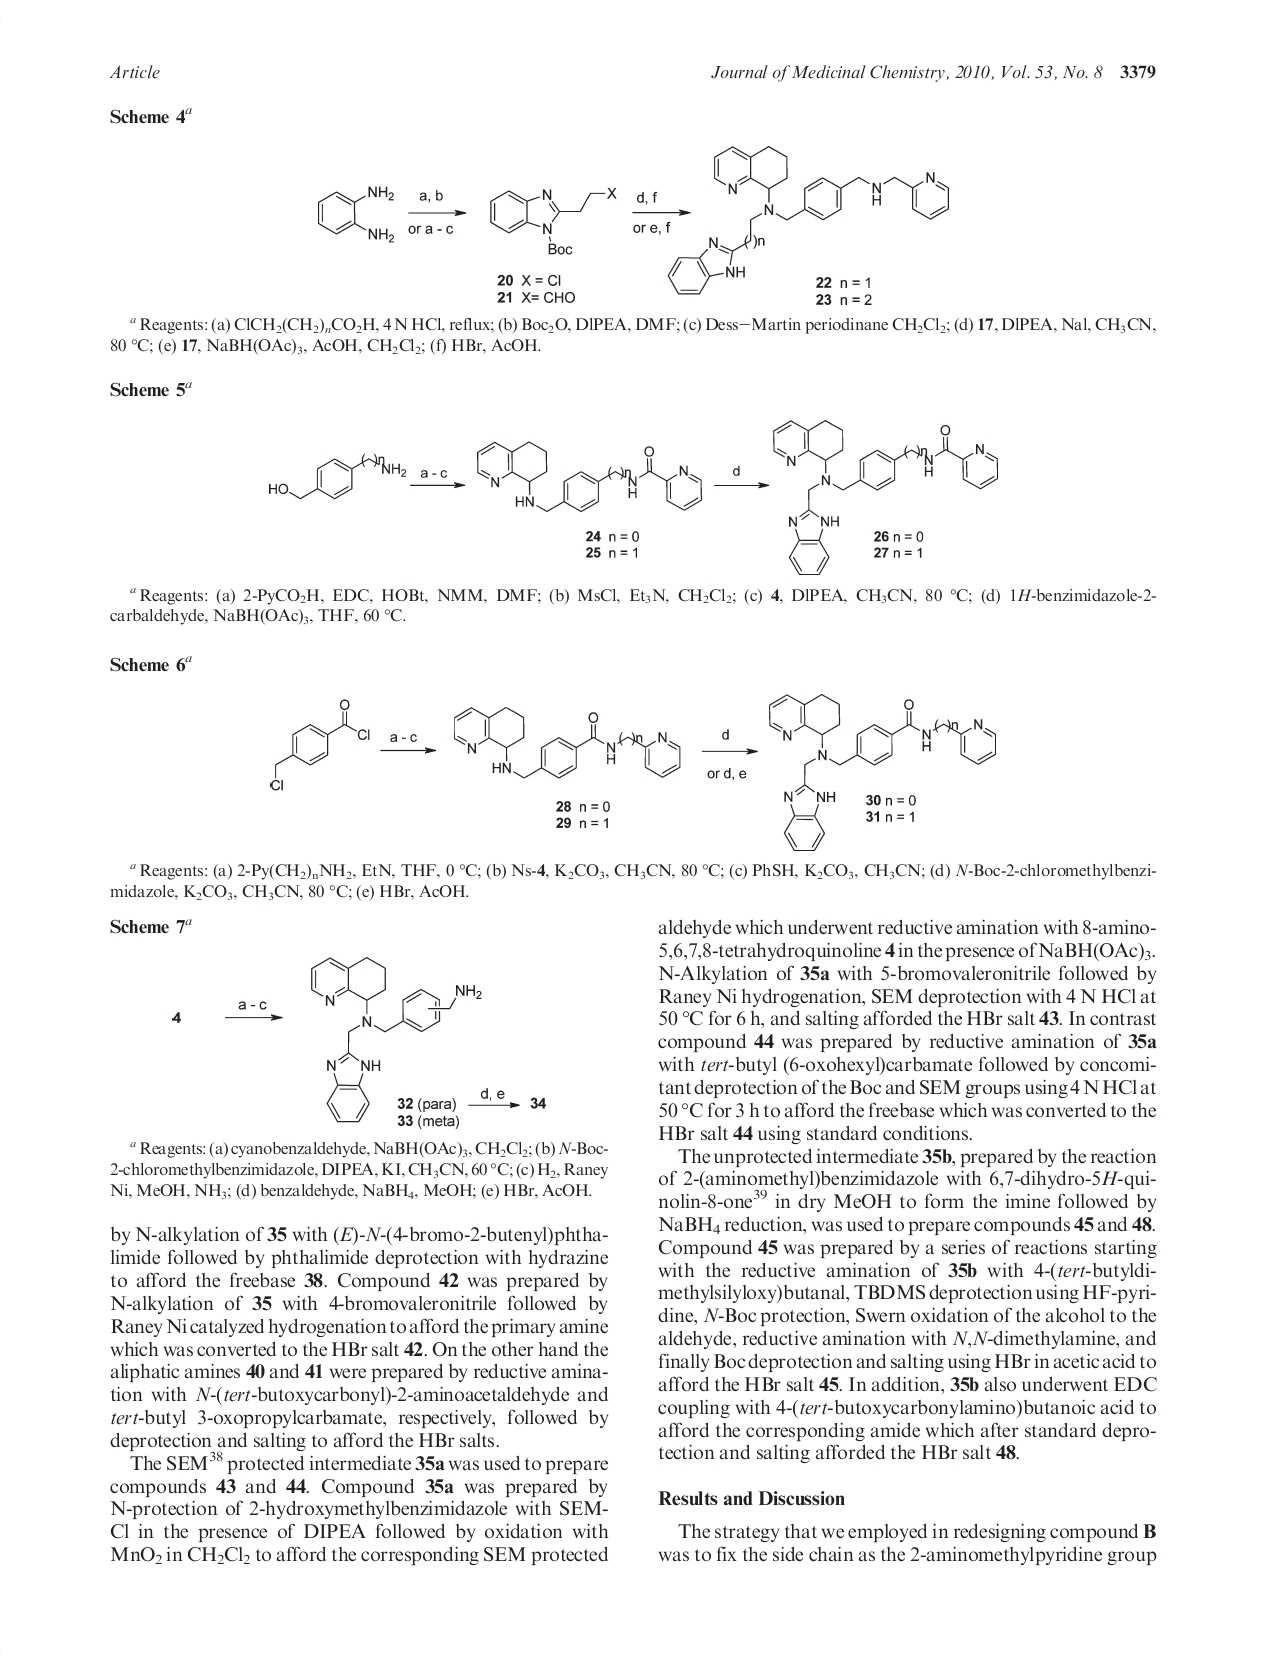exist_molecular: (668, 144, 953, 305), (757, 688, 1001, 858), (763, 410, 1005, 578), (299, 943, 484, 1124), (444, 690, 689, 789), (469, 436, 711, 524), (259, 685, 382, 801), (476, 170, 621, 266), (263, 447, 410, 519), (309, 172, 403, 241)
